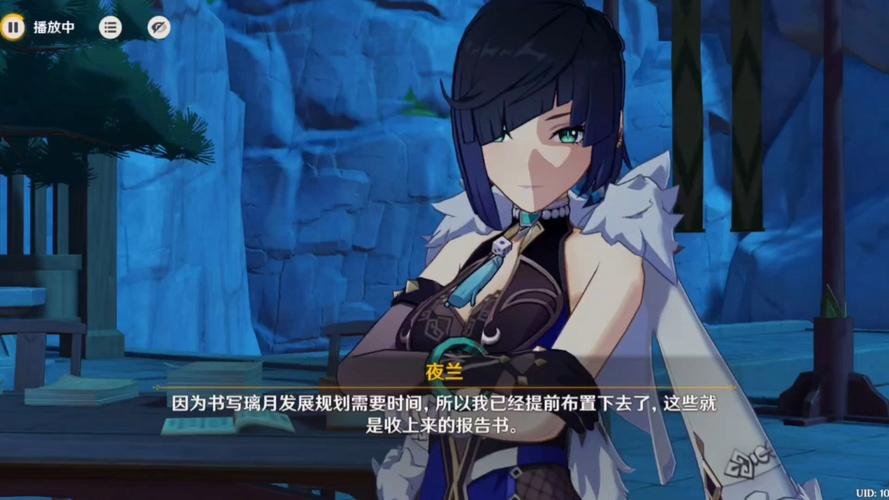夜兰: (332, 1, 652, 500)
